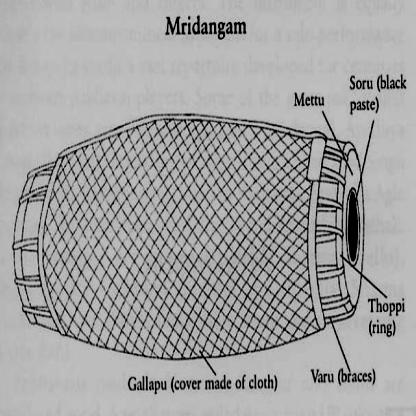Mridangam: (5, 106, 375, 361)
